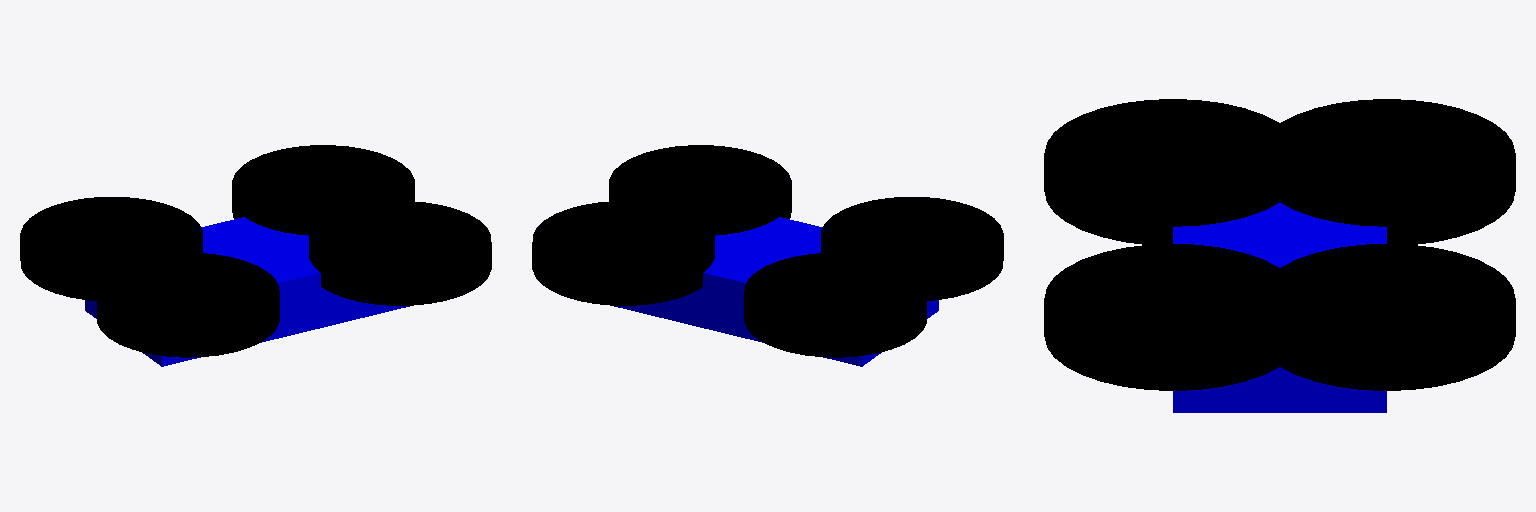
URDF robot description (belaaaaaaaaaaaaaaaaaaaaaaazik):
<?xml version="1.0" ?>
<robot name="belaaaaaaaaaaaaaaaaaaaaaaazik">

  <link name="odom"/>

  <joint name="odom_to_base" type="fixed">
    <parent link="odom"/>
    <child link="base_link"/>
  </joint>

  <link name="base_link">
    <visual>
      <geometry>
        <box size="1.0 0.5 0.2"/>
      </geometry>
      <material name="blue">
        <color rgba="0.0 0.0 1.0 1.0"/>
      </material>
    </visual>
  </link>

  <link name="wheel_front_left">
    <visual>
      <geometry>
        <cylinder radius="0.3" length="0.1"/>
      </geometry>
      <material name="black">
        <color rgba="0.0 0.0 0.0 1.0"/>
      </material>
    </visual>
  </link>

  <link name="wheel_front_right">
    <visual>
      <geometry>
        <cylinder radius="0.3" length="0.1"/>
      </geometry>
      <material name="black">
        <color rgba="0.0 0.0 0.0 1.0"/>
      </material>
    </visual>
  </link>

  <link name="wheel_rear_left">
    <visual>
      <geometry>
        <cylinder radius="0.3" length="0.1"/>
      </geometry>
      <material name="black">
        <color rgba="0.0 0.0 0.0 1.0"/>
      </material>
    </visual>
  </link>

  <link name="wheel_rear_right">
    <visual>
      <geometry>
        <cylinder radius="0.3" length="0.1"/>
      </geometry>
      <material name="black">
        <color rgba="0.0 0.0 0.0 1.0"/>
      </material>
    </visual>
  </link>

  <joint name="rack_pinion_joint" type="revolute">
    <parent link="base_link"/>
    <child link="wheel_front_left"/>
    <origin xyz="0.4 0.25 0.1" rpy="0 0 0"/>
    <axis xyz="0 0 1"/>
    <limit effort="10.0" lower="-1.57" upper="1.57" velocity="1.0"/>
  </joint>

  <joint name="joint_front_right" type="revolute">
    <parent link="base_link"/>
    <child link="wheel_front_right"/>
    <origin xyz="0.4 -0.25 0.1" rpy="0 0 0"/>
    <axis xyz="0 0 1"/>
    <limit effort="10.0" lower="-1.57" upper="1.57" velocity="1.0"/>
  </joint>

  <joint name="wheel_rear_left" type="continuous">
    <parent link="base_link"/>
    <child link="wheel_rear_left"/>
    <origin xyz="-0.4 0.25 0.1"/>
    <axis xyz="0 0 1"/>
  </joint>

  <joint name="wheel_rear_right" type="continuous">
    <parent link="base_link"/>
    <child link="wheel_rear_right"/>
    <origin xyz="-0.4 -0.25 0.1"/>
    <axis xyz="0 0 1"/>
  </joint>

</robot>

--- Facts derived from the render (not from the file) ---
3 views of the same robot in one strip: view 1: azimuth 30°, elevation 25°; view 2: azimuth 150°, elevation 25°; view 3: azimuth 270°, elevation 25° (orthographic).
Model belaaaaaaaaaaaaaaaaaaaaaaazik with 6 links and 5 joints (2 revolute, 2 continuous, 1 fixed), rooted at odom, posed every joint at zero.
Visible links, largest first — view 1: wheel_rear_right, wheel_front_right, wheel_rear_left, wheel_front_left, base_link; view 2: wheel_rear_left, wheel_front_left, wheel_rear_right, wheel_front_right, base_link; view 3: wheel_front_left, wheel_front_right, wheel_rear_left, wheel_rear_right, base_link.
Boxes of the visible links, left/top/right/bottom form: wheel_rear_right: left=97, top=253, right=279, bottom=357; wheel_front_right: left=309, top=201, right=491, bottom=305; wheel_rear_left: left=20, top=197, right=202, bottom=300; wheel_front_left: left=232, top=145, right=414, bottom=235; base_link: left=85, top=217, right=409, bottom=366; wheel_rear_left: left=744, top=253, right=926, bottom=357; wheel_front_left: left=532, top=201, right=714, bottom=305; wheel_rear_right: left=821, top=197, right=1003, bottom=300; wheel_front_right: left=609, top=145, right=791, bottom=235; base_link: left=614, top=217, right=938, bottom=366; wheel_front_left: left=1259, top=244, right=1515, bottom=390; wheel_front_right: left=1044, top=244, right=1300, bottom=390; wheel_rear_left: left=1259, top=99, right=1515, bottom=244; wheel_rear_right: left=1044, top=99, right=1300, bottom=244; base_link: left=1173, top=203, right=1386, bottom=412.
Bounding box of the posed robot: 1.4 × 1.1 × 0.25 m (x, y, z).
Geometry: primitives only (box / cylinder / sphere), no mesh files.
